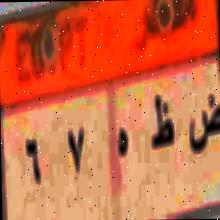6: (25, 136, 44, 184)
7: (64, 119, 86, 182)
Thaa: (148, 82, 176, 162)
daad: (186, 91, 220, 155)
haa: (112, 120, 128, 169)
